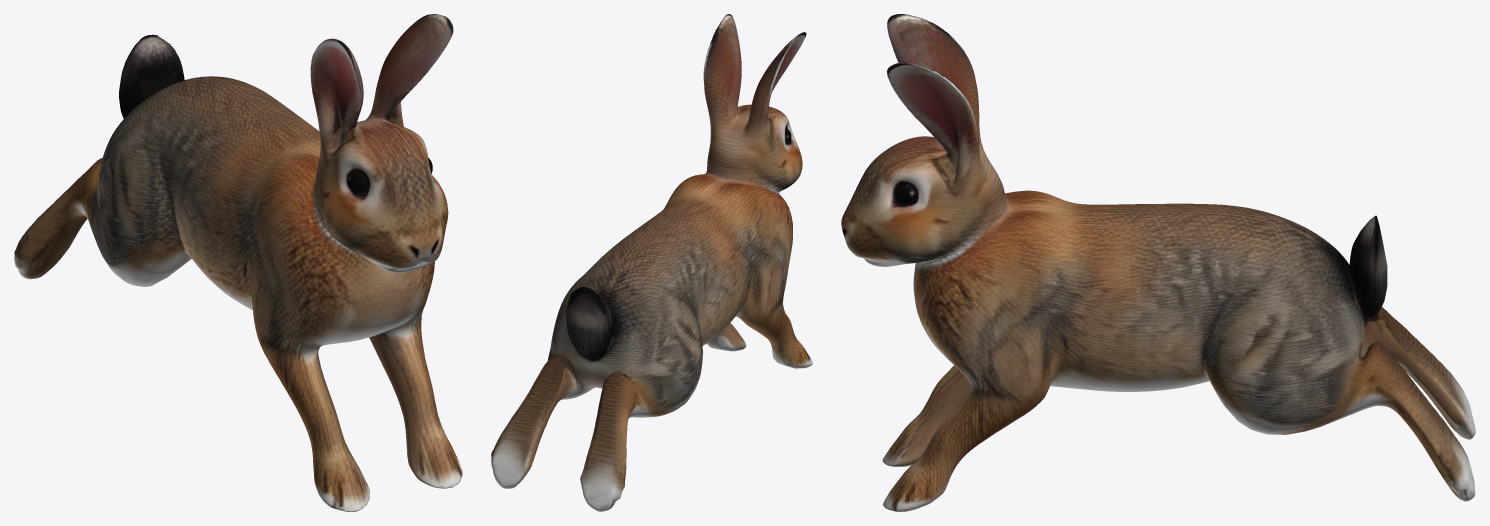
Rendered from rabbit_hopping.glb.
3 renders of one model, left to right at view 1: azimuth 30°, elevation 25°; view 2: azimuth 150°, elevation 25°; view 3: azimuth 270°, elevation 25°, orthographic. The views are drawn at different scales.
Visible parts, largest first — view 1: model; view 2: model; view 3: model.
Boxes of the visible parts, box(x1,y1,x2,y2) form: model: box(14, 14, 462, 511); model: box(491, 14, 812, 511); model: box(841, 14, 1475, 511).
Size of the model in its own units: 0.6149 by 1.47 by 1.9.
1 material, 1 textured.
